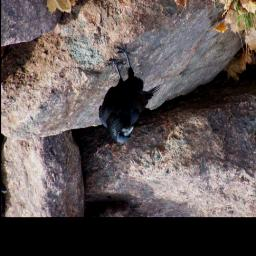Crow: (98, 42, 166, 148)
